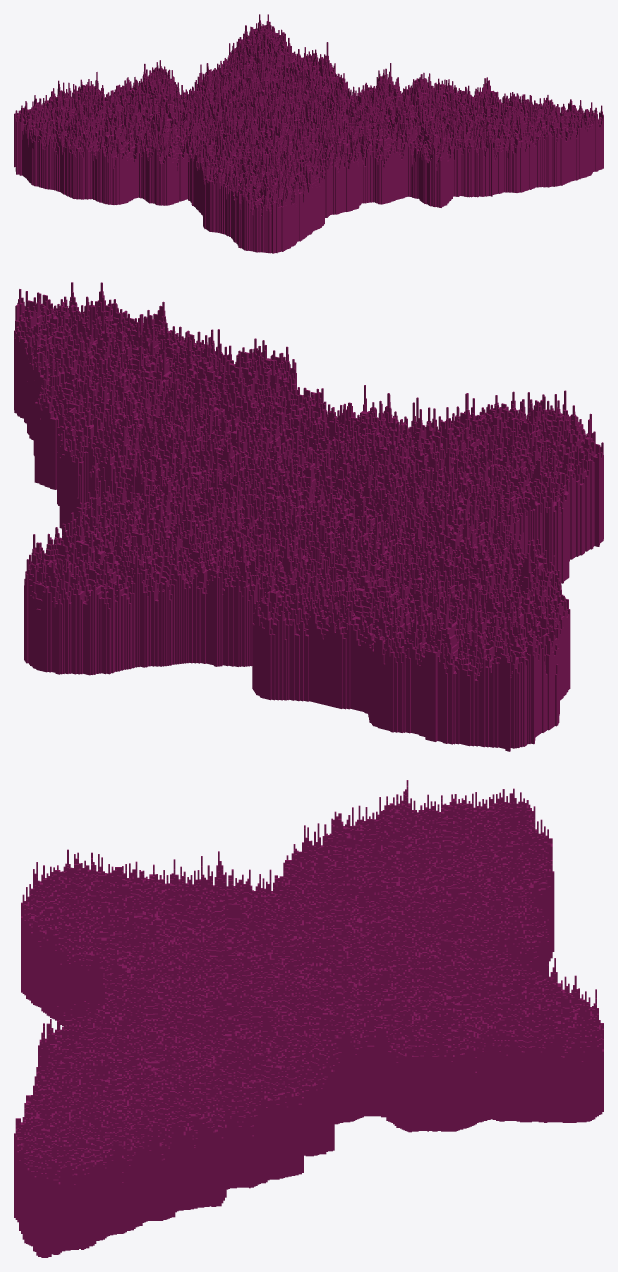
File: flight_den_120.glb
3 views of the same model, one above another, from view 1: azimuth 30°, elevation 25°; view 2: azimuth 150°, elevation 25°; view 3: azimuth 270°, elevation 25° (orthographic). The views are drawn at different scales.
Parts seen in each view (by area): view 1: pyvista_mesh_save.001; view 2: pyvista_mesh_save.001; view 3: pyvista_mesh_save.001.
Part boxes in pixels (x1=…): pyvista_mesh_save.001: x1=14, y1=14, x2=603, y2=253; pyvista_mesh_save.001: x1=14, y1=282, x2=603, y2=751; pyvista_mesh_save.001: x1=14, y1=780, x2=603, y2=1257.
Bounding box in the file's own units: 10.06 × 1.98 × 6.88.
